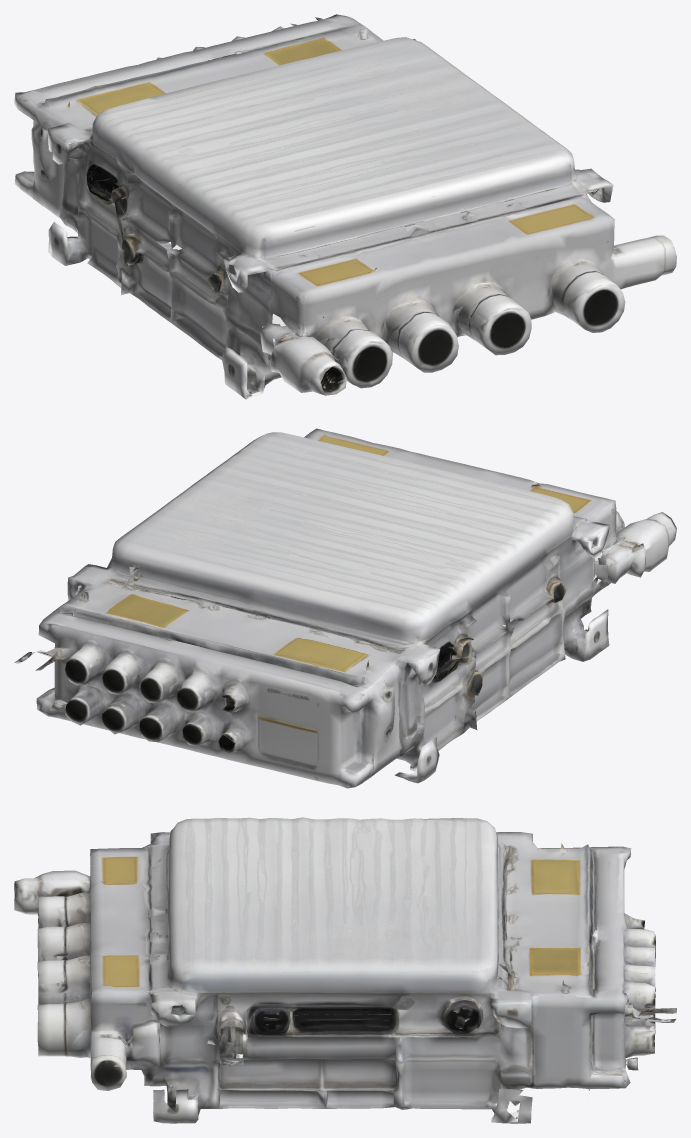
File: VCU.fbx
The picture shows the model from 3 angles, top to bottom: view 1: azimuth 30°, elevation 25°; view 2: azimuth 150°, elevation 25°; view 3: azimuth 270°, elevation 25°; orthographic projection. The views are drawn at different scales.
Visible parts, largest first — view 1: Mesh_0; view 2: Mesh_0; view 3: Mesh_0.
Boxes of the visible parts, x1=… form: Mesh_0: x1=14, y1=14, x2=676, y2=399; Mesh_0: x1=14, y1=428, x2=676, y2=788; Mesh_0: x1=14, y1=817, x2=676, y2=1123.
Bounding box in the file's own units: 135 × 49.56 × 200.
Materials: 1 (1 with a texture image).
